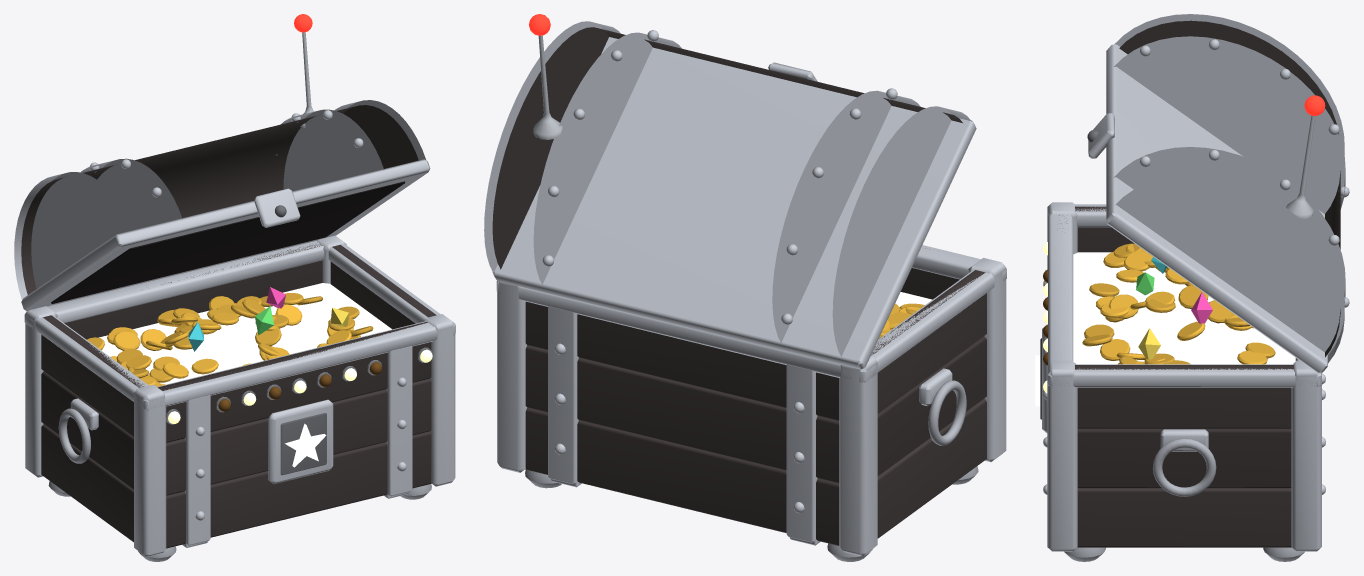
Rendered from loot_box_silver.glb.
3 views of the same model, side by side, from view 1: azimuth 30°, elevation 25°; view 2: azimuth 150°, elevation 25°; view 3: azimuth 270°, elevation 25° (orthographic). The views are drawn at different scales.
Visible parts, largest first — view 1: Body, Lid; view 2: Lid, Body; view 3: Body, Lid.
Boxes of the visible parts, x1,y1,x2,y2 form: Body: (24,235,455,561); Lid: (14,14,430,310); Lid: (484,14,976,369); Body: (496,245,1006,561); Body: (1035,202,1325,561); Lid: (1087,14,1349,373).
Size of the model in its own units: 1 by 1.15 by 0.7203.
